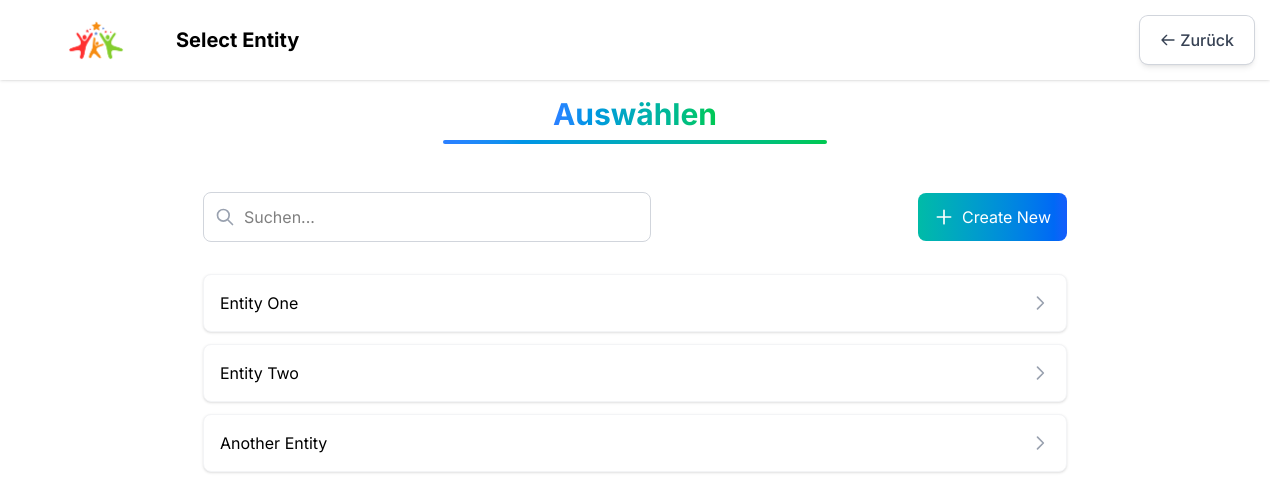
Scenario: DataListPage › shows no results message when search has no matches
The image size is (1280, 490).
Type "NonExistent" into the field with placeholder "Suchen..." at (427, 217), box [203,192,651,242]
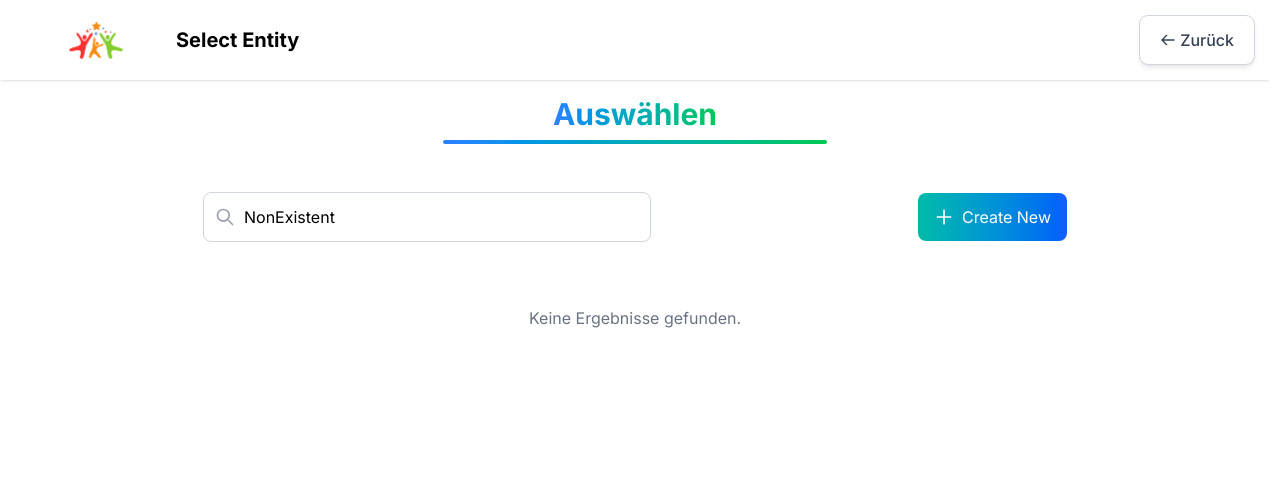
Now the text "Keine Ergebnisse gefunden." is shown, box [529,308,741,328]
